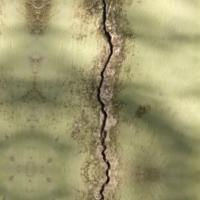crack: (80, 0, 164, 199)
